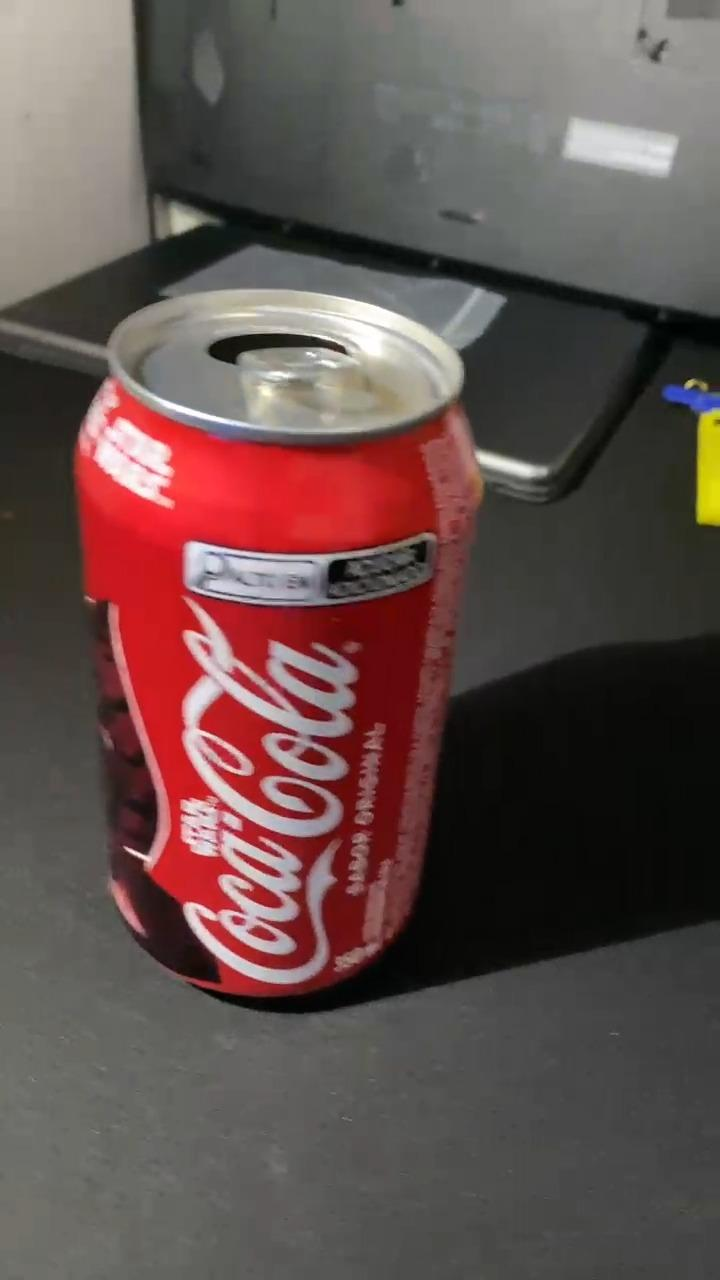coke: (77, 290, 480, 997)
